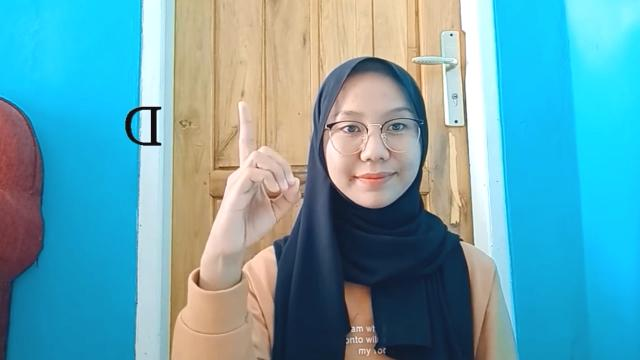D: (203, 103, 303, 263)
